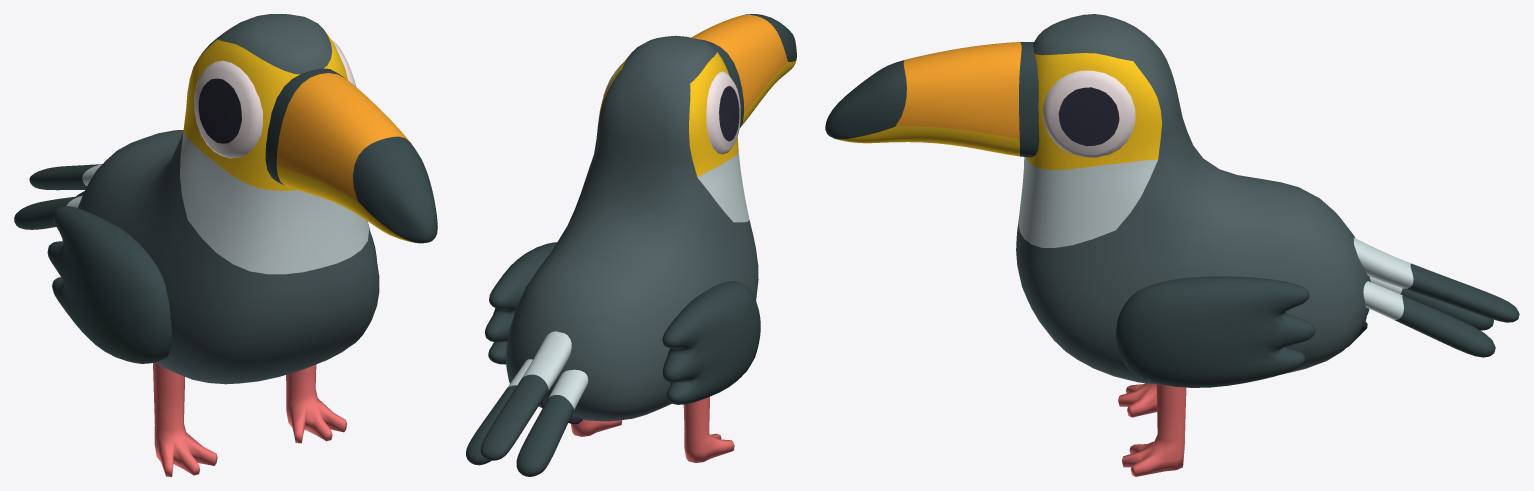
Rendered from Toucan.glb.
The picture shows the model from 3 angles, left to right: view 1: azimuth 30°, elevation 25°; view 2: azimuth 150°, elevation 25°; view 3: azimuth 270°, elevation 25°; orthographic projection. The views are drawn at different scales.
Visible parts, largest first — view 1: Toucan; view 2: Toucan; view 3: Toucan.
Boxes of the visible parts, x1,y1,x2,y2 form: Toucan: (14, 14, 437, 476); Toucan: (466, 14, 796, 476); Toucan: (825, 14, 1519, 476).
Bounding box in the file's own units: 0.9762 × 1.55 × 2.37.
1 material, 1 textured.
